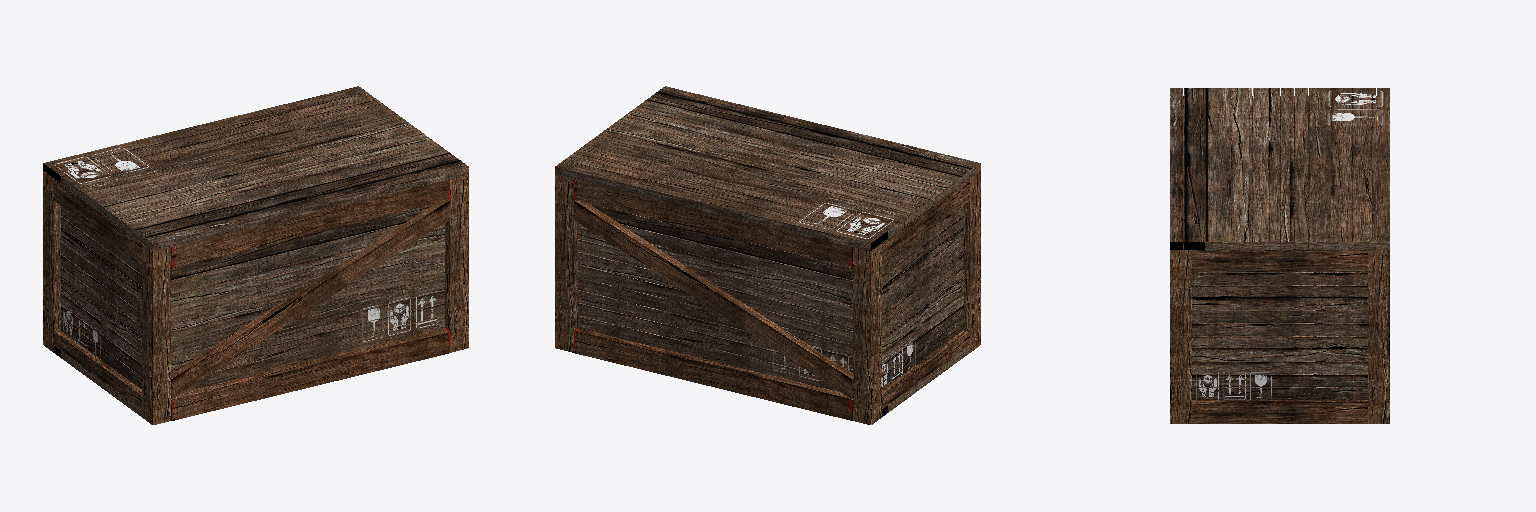
3 views of the same model, side by side, from view 1: azimuth 30°, elevation 25°; view 2: azimuth 150°, elevation 25°; view 3: azimuth 270°, elevation 25° (orthographic).
Visible parts, largest first — view 1: WoodenBox_WoodenBox_WoodenBox1, WoodenBox_WoodenBox_WoodenBox5, WoodenBox_WoodenBox_WoodenBox3, WoodenBox_WoodenBox_WoodenBox2, WoodenBox_WoodenBox_WoodenBox4, WoodenBox_WoodenBox_WoodenBox6; view 2: WoodenBox_WoodenBox_WoodenBox1, WoodenBox_WoodenBox_WoodenBox5, WoodenBox_WoodenBox_WoodenBox3, WoodenBox_WoodenBox_WoodenBox2, WoodenBox_WoodenBox_WoodenBox4, WoodenBox_WoodenBox_WoodenBox6; view 3: WoodenBox_WoodenBox_WoodenBox1, WoodenBox_WoodenBox_WoodenBox2, WoodenBox_WoodenBox_WoodenBox6, WoodenBox_WoodenBox_WoodenBox3.
Part boxes in pixels (bbox=[...]): WoodenBox_WoodenBox_WoodenBox1: bbox=[43, 86, 468, 416]; WoodenBox_WoodenBox_WoodenBox5: bbox=[171, 179, 449, 420]; WoodenBox_WoodenBox_WoodenBox3: bbox=[43, 171, 468, 424]; WoodenBox_WoodenBox_WoodenBox2: bbox=[61, 206, 141, 388]; WoodenBox_WoodenBox_WoodenBox4: bbox=[171, 200, 449, 398]; WoodenBox_WoodenBox_WoodenBox6: bbox=[54, 179, 142, 408]; WoodenBox_WoodenBox_WoodenBox1: bbox=[555, 86, 980, 416]; WoodenBox_WoodenBox_WoodenBox5: bbox=[574, 179, 852, 420]; WoodenBox_WoodenBox_WoodenBox3: bbox=[555, 171, 980, 424]; WoodenBox_WoodenBox_WoodenBox2: bbox=[882, 205, 963, 388]; WoodenBox_WoodenBox_WoodenBox4: bbox=[574, 200, 852, 398]; WoodenBox_WoodenBox_WoodenBox6: bbox=[882, 179, 969, 408]; WoodenBox_WoodenBox_WoodenBox1: bbox=[1170, 88, 1389, 249]; WoodenBox_WoodenBox_WoodenBox2: bbox=[1192, 127, 1367, 399]; WoodenBox_WoodenBox_WoodenBox6: bbox=[1192, 96, 1367, 423]; WoodenBox_WoodenBox_WoodenBox3: bbox=[1170, 96, 1389, 423].
Size of the model in its own units: 3.37 by 1.85 by 2.03.
Materials: 6 (6 with a texture image).